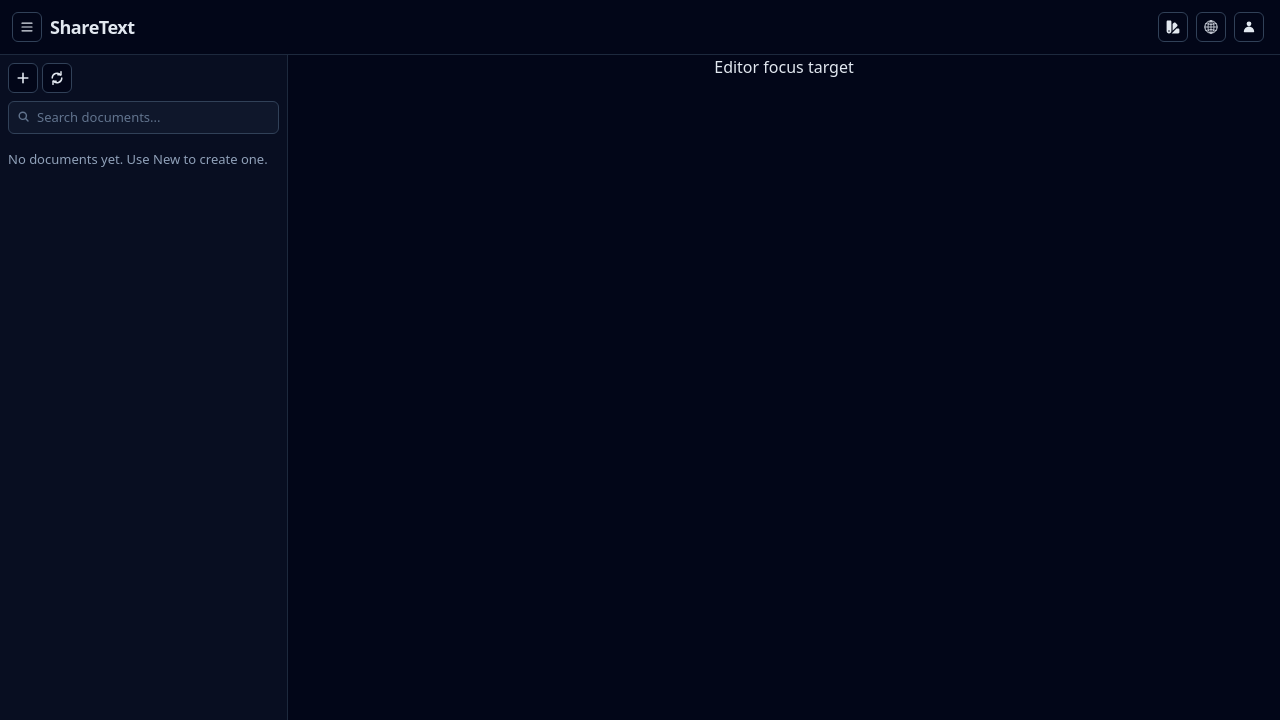
Test: Header login dialog › opens a login dialog instead of navigating to /login
Click the button named "Login" at coordinates (1249, 27), box [1234,12,1264,42]
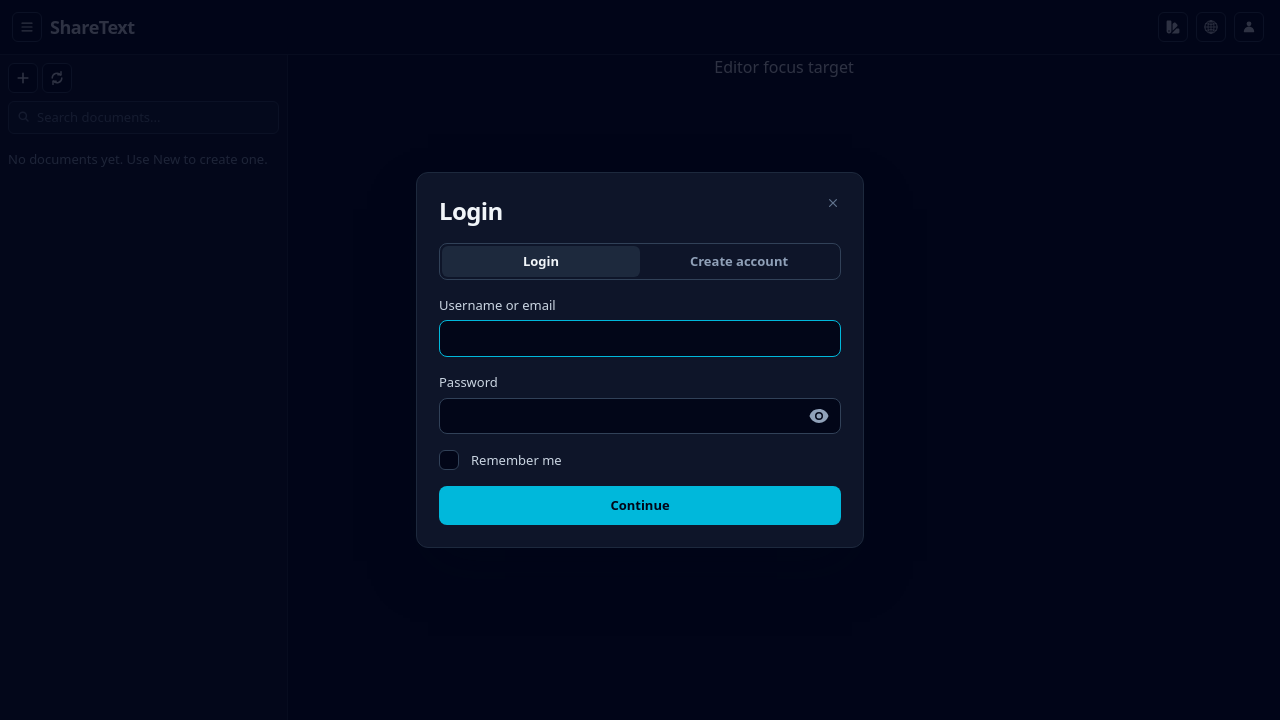
Now the dialog is shown, box [416,172,864,548]
Now the field labelled "Username or email" is shown, box [439,320,841,357]
